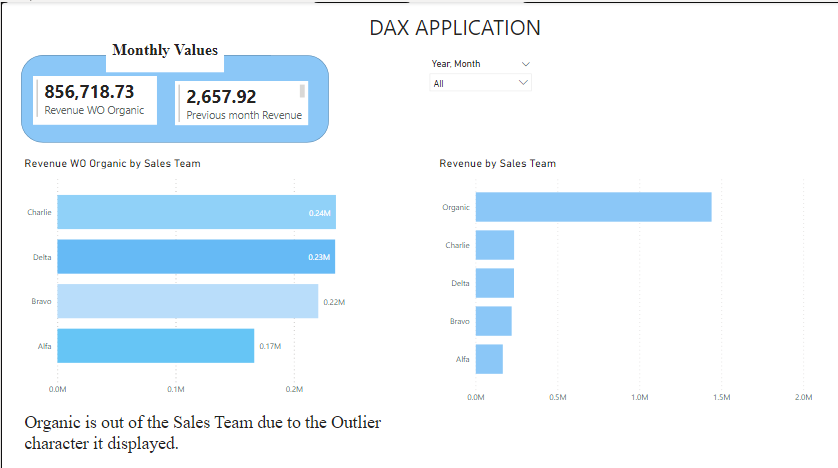

Layout of this report page (visuals, bound fields, positions):
{"tool":"powerbi","page":{"name":"Page 1","canvas":[1280,720],"ordinal":0},"visuals":[{"type":"slicer","fields":{"Values":["Sales.Order Date.Variation.Date Hierarchy.Year","Sales.Order Date.Variation.Date Hierarchy.Month"]},"box":[640,0,179,213.8],"z":0},{"type":"barChart","fields":{"Y":["Sales.Revenue WO Organic"],"Category":["Sales Reps.Sales Team"]},"box":[30.3,233.6,523.2,371.6],"z":1000},{"type":"shape","box":[30.3,80.4,467.1,133.5],"z":2000,"group":"g1"},{"type":"multiRowCard","fields":{"Values":["Sales.Revenue WO Organic"]},"box":[48.5,112.2,188.1,74.3],"z":3000,"group":"g1"},{"type":"multiRowCard","fields":{"Values":["Sales.Previous month Revenue"]},"box":[263.9,119.8,201.7,66.7],"z":4000,"group":"g1"},{"type":"textbox","box":[159.2,54.6,179,51.6],"z":5000,"group":"g1"},{"type":"group","id":"g1","title":"Group 1","box":[30.3,54.6,467.1,159.2],"z":5001},{"type":"textbox","box":[30.3,617.3,574.8,91],"z":5002},{"type":"barChart","fields":{"Y":["Sales.Revenue"],"Category":["Sales Reps.Sales Team"]},"box":[659.7,233.6,576.3,383.7],"z":5003}]}

Visuals, with their boxes in screenshot pixels (x1, y1, x2, y2), scaled from the page's 1280x720 canvas onto the 838x468 screenshot:
slicer - Sales.Order Date.Variation.Date Hierarchy.Year x Sales.Order Date.Variation.Date Hierarchy.Month: box(419, 0, 536, 139)
barChart - Sales.Revenue WO Organic x Sales Reps.Sales Team: box(20, 152, 362, 393)
shape: box(20, 52, 326, 139)
multiRowCard - Sales.Revenue WO Organic: box(32, 73, 155, 121)
multiRowCard - Sales.Previous month Revenue: box(173, 78, 305, 121)
textbox: box(104, 35, 221, 69)
"Group 1" group: box(20, 35, 326, 139)
textbox: box(20, 401, 396, 460)
barChart - Sales.Revenue x Sales Reps.Sales Team: box(432, 152, 809, 401)
